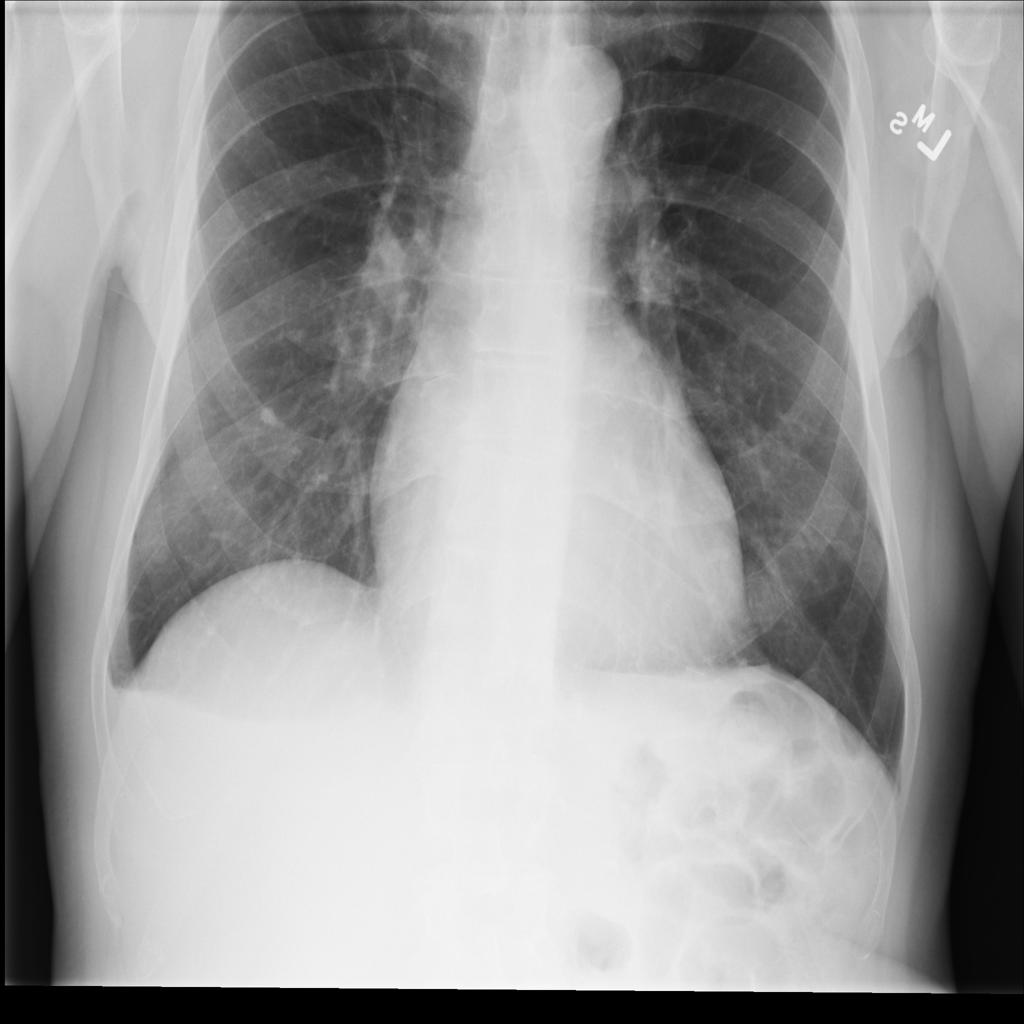nodule: (126, 501, 188, 581), (245, 391, 293, 443)
